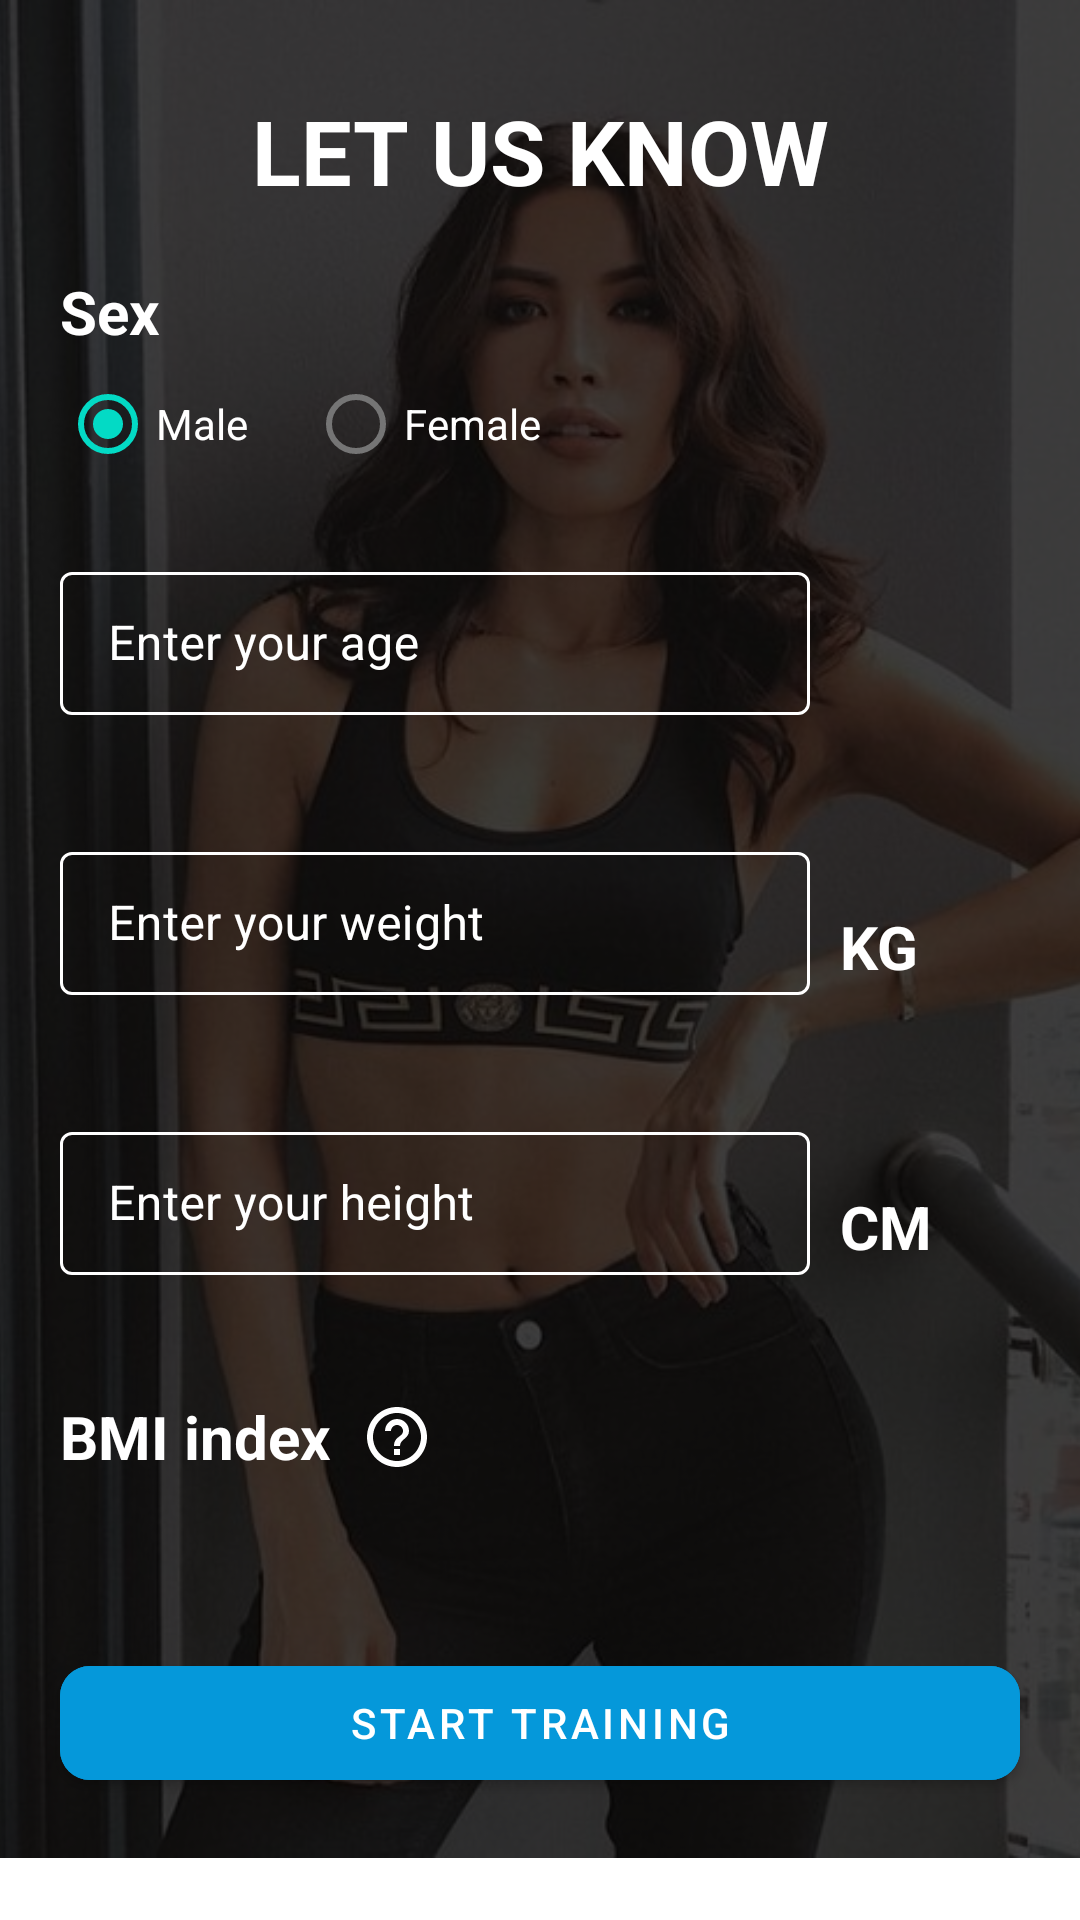

Icon click points for this 1080 × 1920 phone screenshot, format [x,y]:
help: [397,1437]
